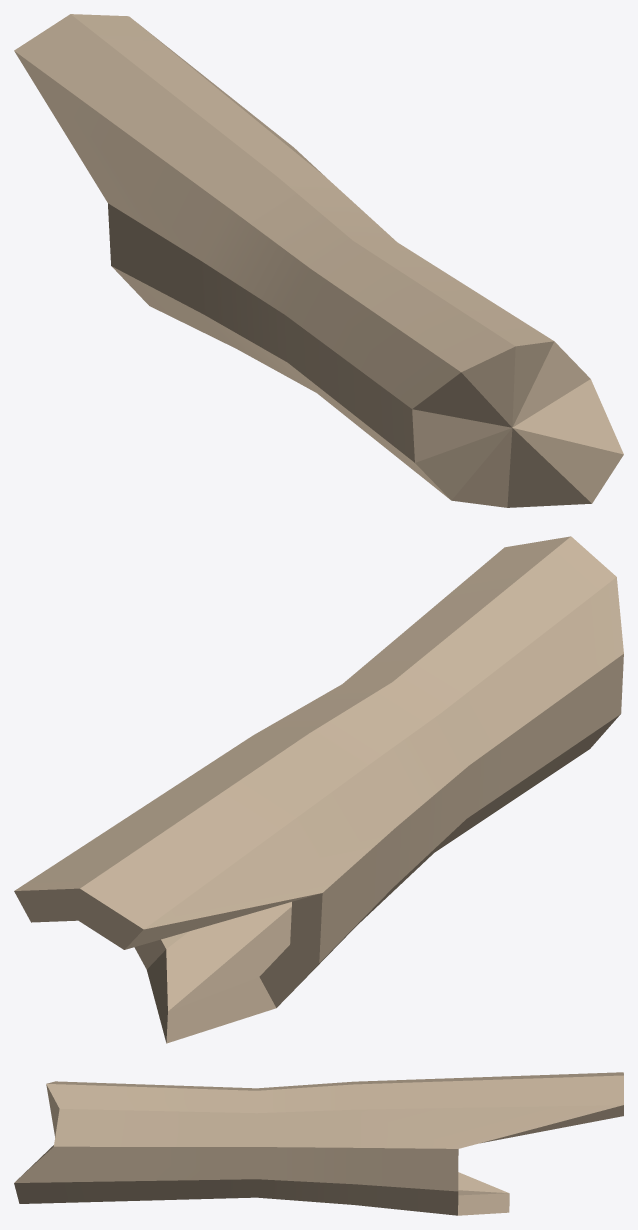
File: SM_Bones_04.fbx
The picture shows the model from 3 angles, top to bottom: view 1: azimuth 30°, elevation 25°; view 2: azimuth 150°, elevation 25°; view 3: azimuth 270°, elevation 25°; orthographic projection. The views are drawn at different scales.
Visible parts, largest first — view 1: SM_Bones_04; view 2: SM_Bones_04; view 3: SM_Bones_04.
Part boxes in pixels (left/top/right/bottom): SM_Bones_04: left=14, top=14, right=623, bottom=507; SM_Bones_04: left=14, top=536, right=623, bottom=1043; SM_Bones_04: left=14, top=1072, right=623, bottom=1215.
Bounding box in the file's own units: 10.16 × 10.47 × 43.23.
1 material, 1 textured.
